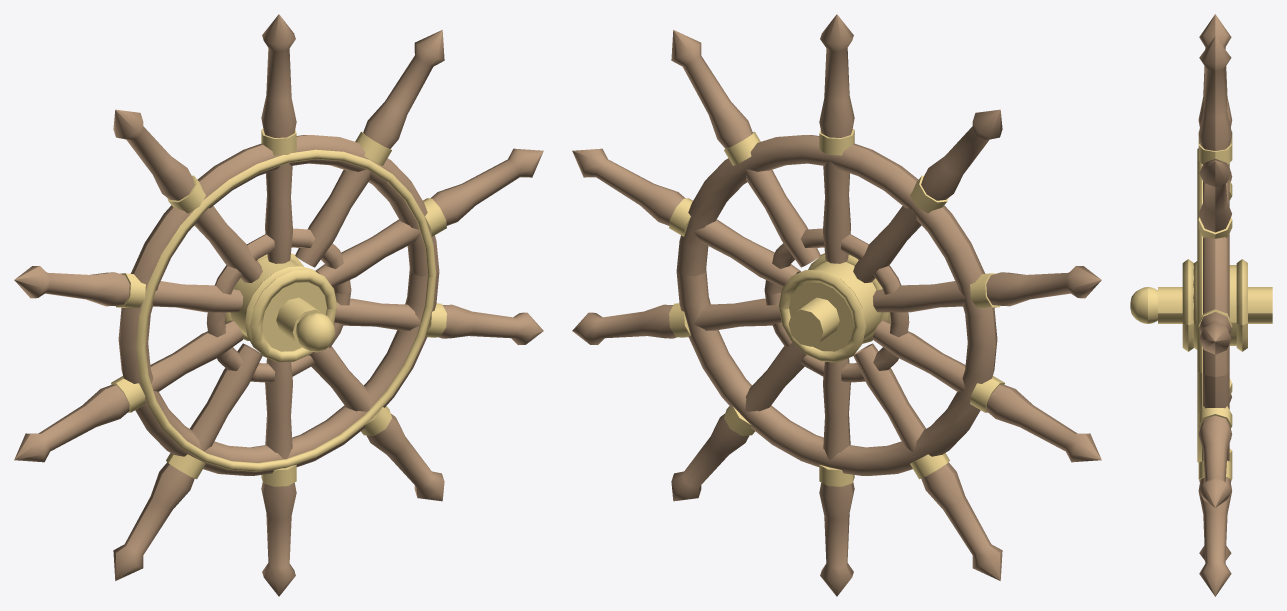
The model's file is steuerrad.glb.
3 views of the same model, side by side, from view 1: azimuth 30°, elevation 25°; view 2: azimuth 150°, elevation 25°; view 3: azimuth 270°, elevation 25° (orthographic). The views are drawn at different scales.
Parts seen in each view (by area): view 1: G_steuerrad; view 2: G_steuerrad; view 3: G_steuerrad.
Part boxes in pixels (x1,y1,x2,y2): G_steuerrad: [14, 14, 543, 596]; G_steuerrad: [572, 14, 1101, 596]; G_steuerrad: [1130, 14, 1272, 596].
Size of the model in its own units: 1.67 by 1.76 by 0.4223.
